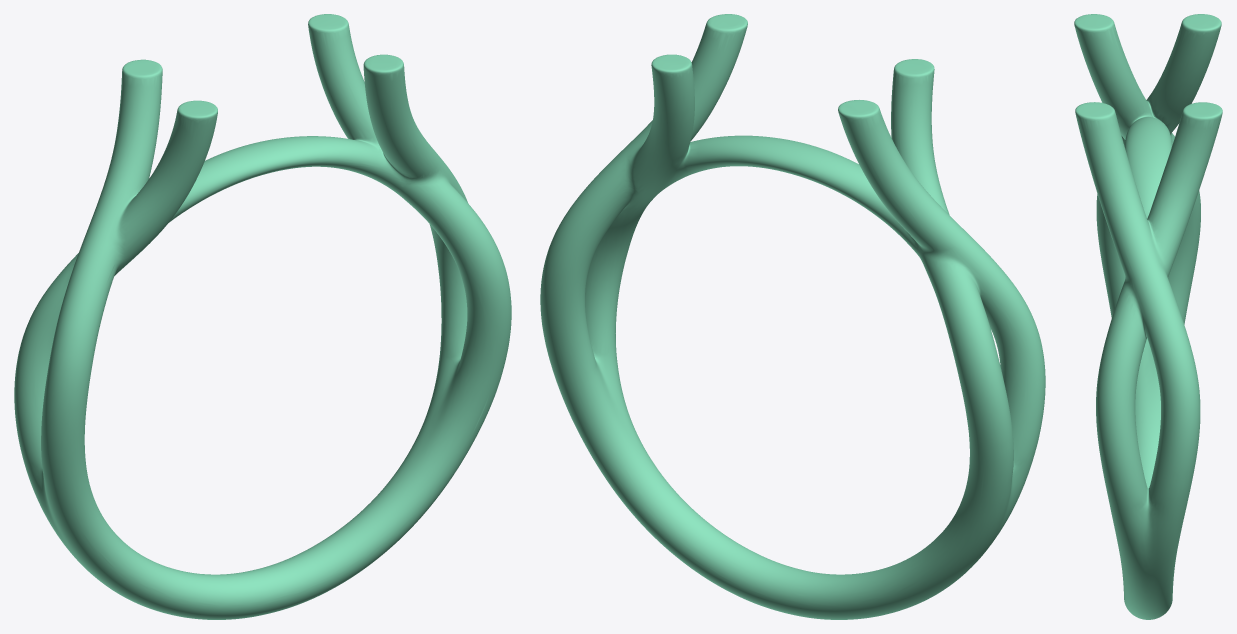
The picture shows the model from 3 angles, left to right: view 1: azimuth 30°, elevation 25°; view 2: azimuth 150°, elevation 25°; view 3: azimuth 270°, elevation 25°; orthographic projection. The views are drawn at different scales.
Parts seen in each view (by area): view 1: Metal02; view 2: Metal02; view 3: Metal02.
Part boxes in pixels (x1,y1,x2,y2): Metal02: (14, 14, 511, 619); Metal02: (540, 14, 1045, 619); Metal02: (1074, 14, 1222, 619).
Size of the model in its own units: 21.12 by 23.58 by 5.98.
